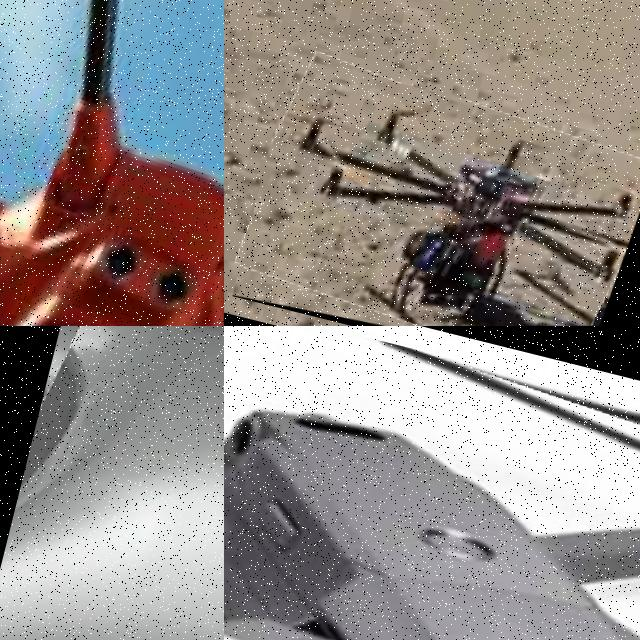drone: (224, 326, 640, 640), (232, 56, 640, 326), (0, 0, 224, 326), (0, 326, 224, 640)
